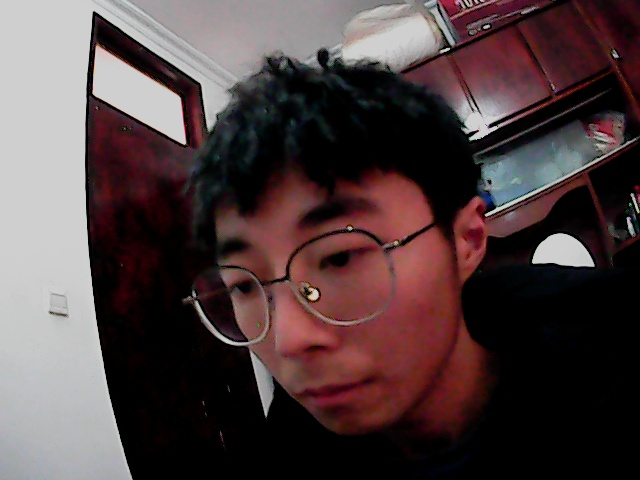face: (176, 50, 514, 437)
